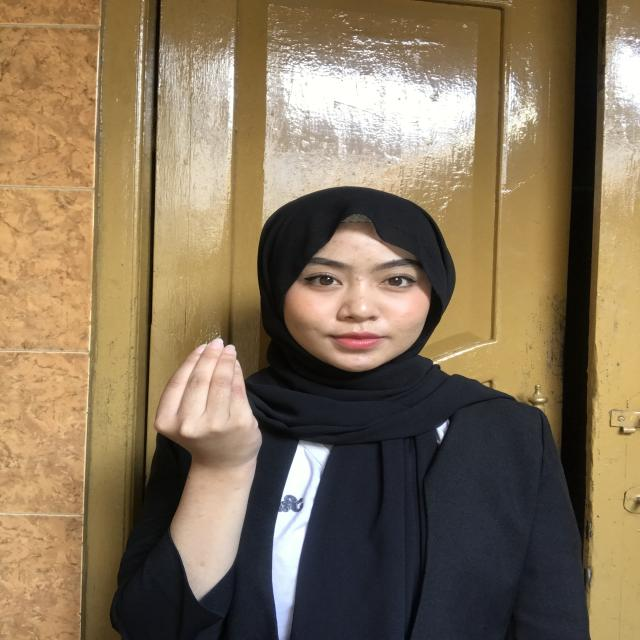kapan: (132, 324, 268, 466)
